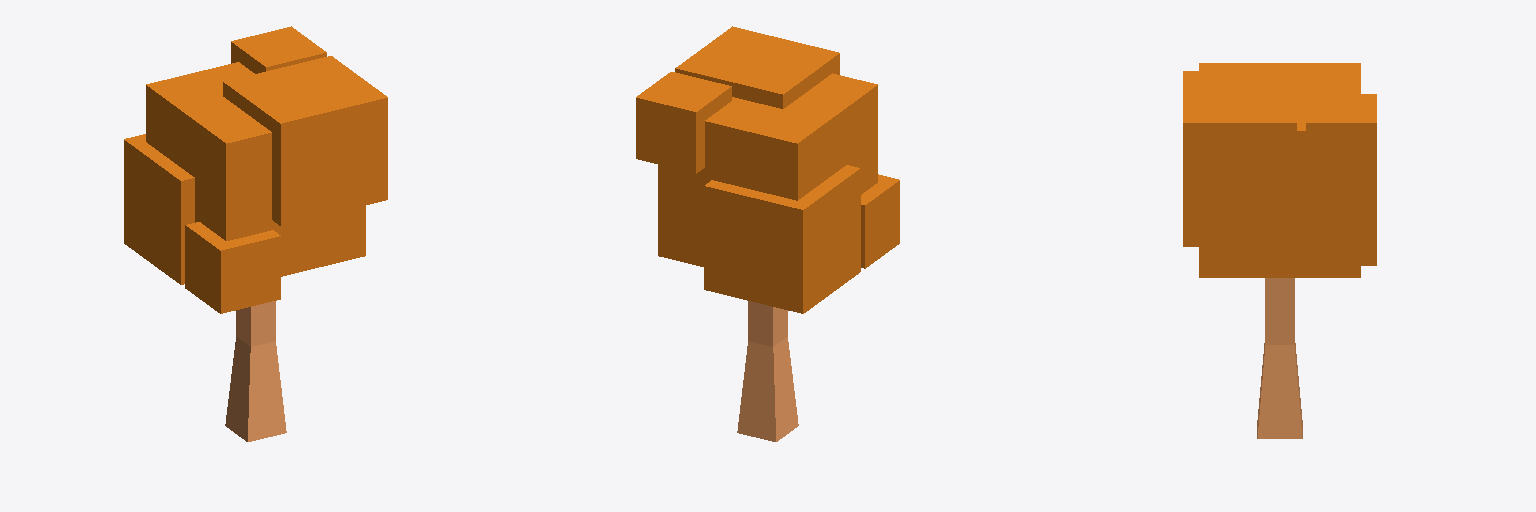
File: tree_blocks_fall.obj
3 renders of one model, left to right at view 1: azimuth 30°, elevation 25°; view 2: azimuth 150°, elevation 25°; view 3: azimuth 270°, elevation 25°, orthographic.
Visible parts, largest first — view 1: tree_blocks_fall; view 2: tree_blocks_fall; view 3: tree_blocks_fall.
Part boxes in pixels (x1,y1,x2,y2): tree_blocks_fall: (124, 26, 387, 441); tree_blocks_fall: (636, 26, 899, 441); tree_blocks_fall: (1183, 63, 1376, 438).
Size of the model in its own units: 6 by 11.85 by 6.